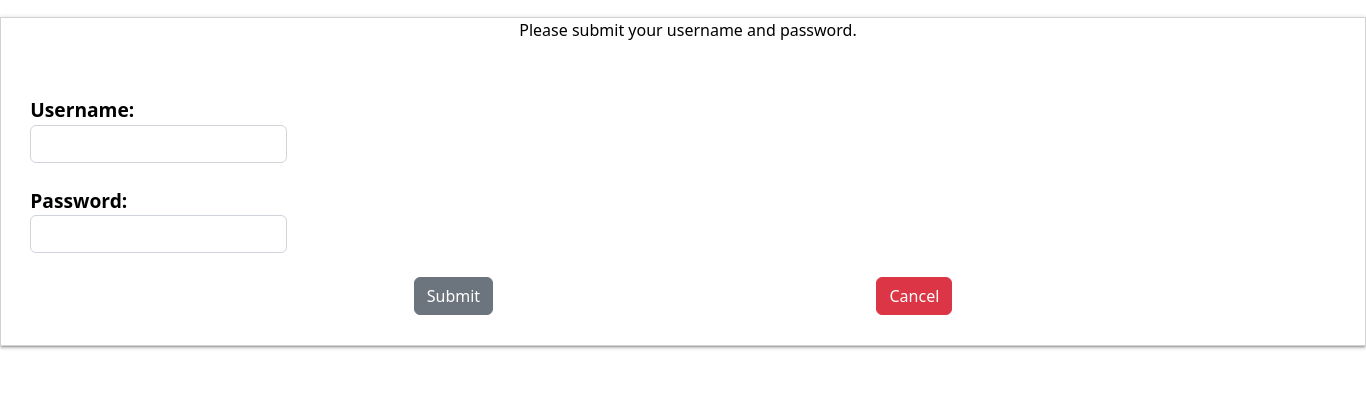
it: does not log in false user
Type "ioug" into the field labelled "Username:". click: x=159, y=144
box: [30,124,287,162]
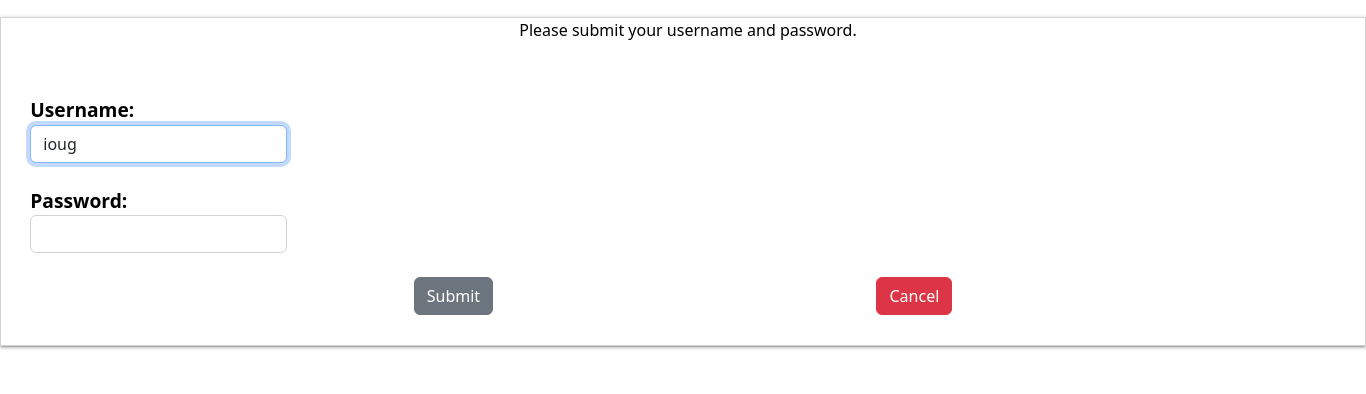
Type "utsxrhuio;" into the password field labelled "Password:". click: x=159, y=234
box: [30,215,287,253]
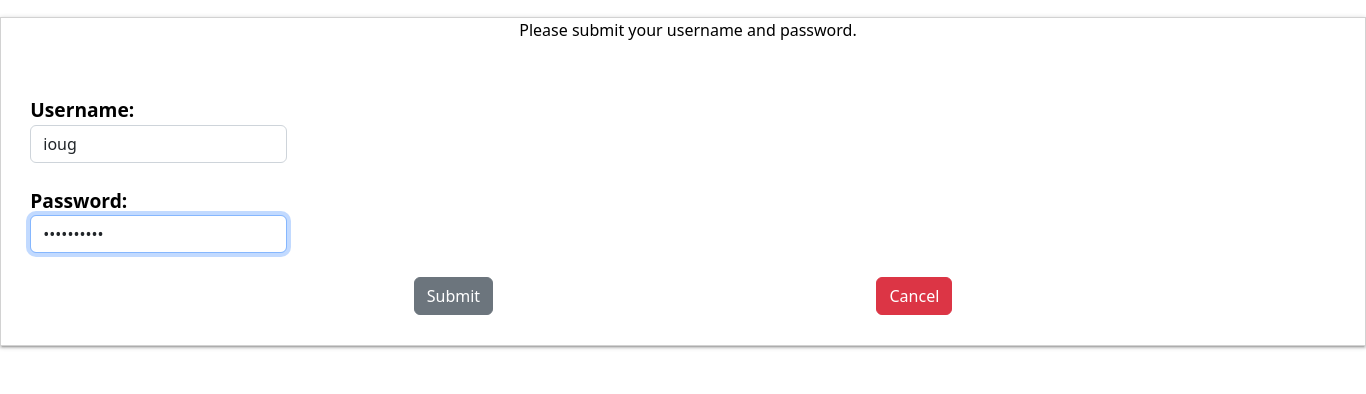
Click the button "Submit". click: x=453, y=296
box: [414,277,493,315]
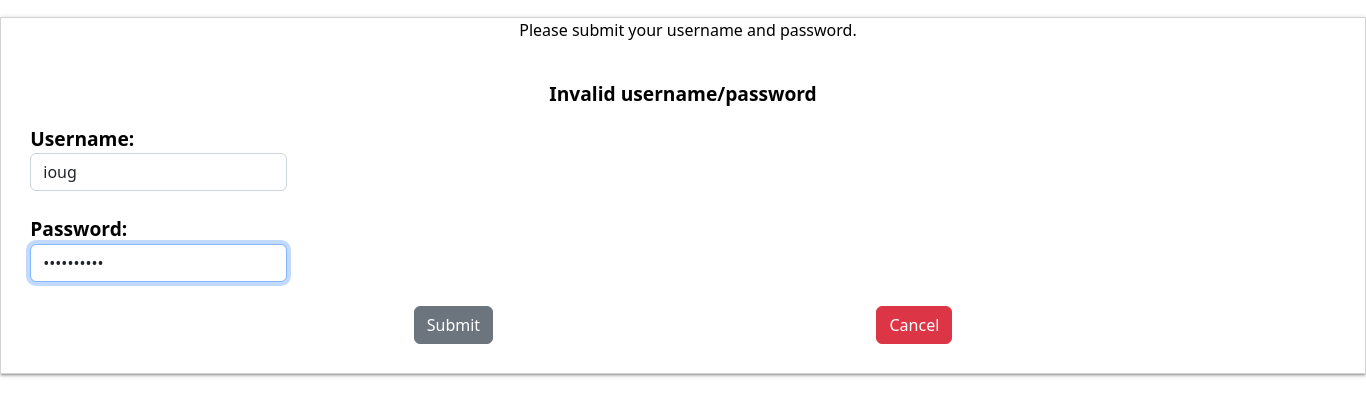
Expected: the text "Invalid username/password" is shown, [549,80,817,107]
